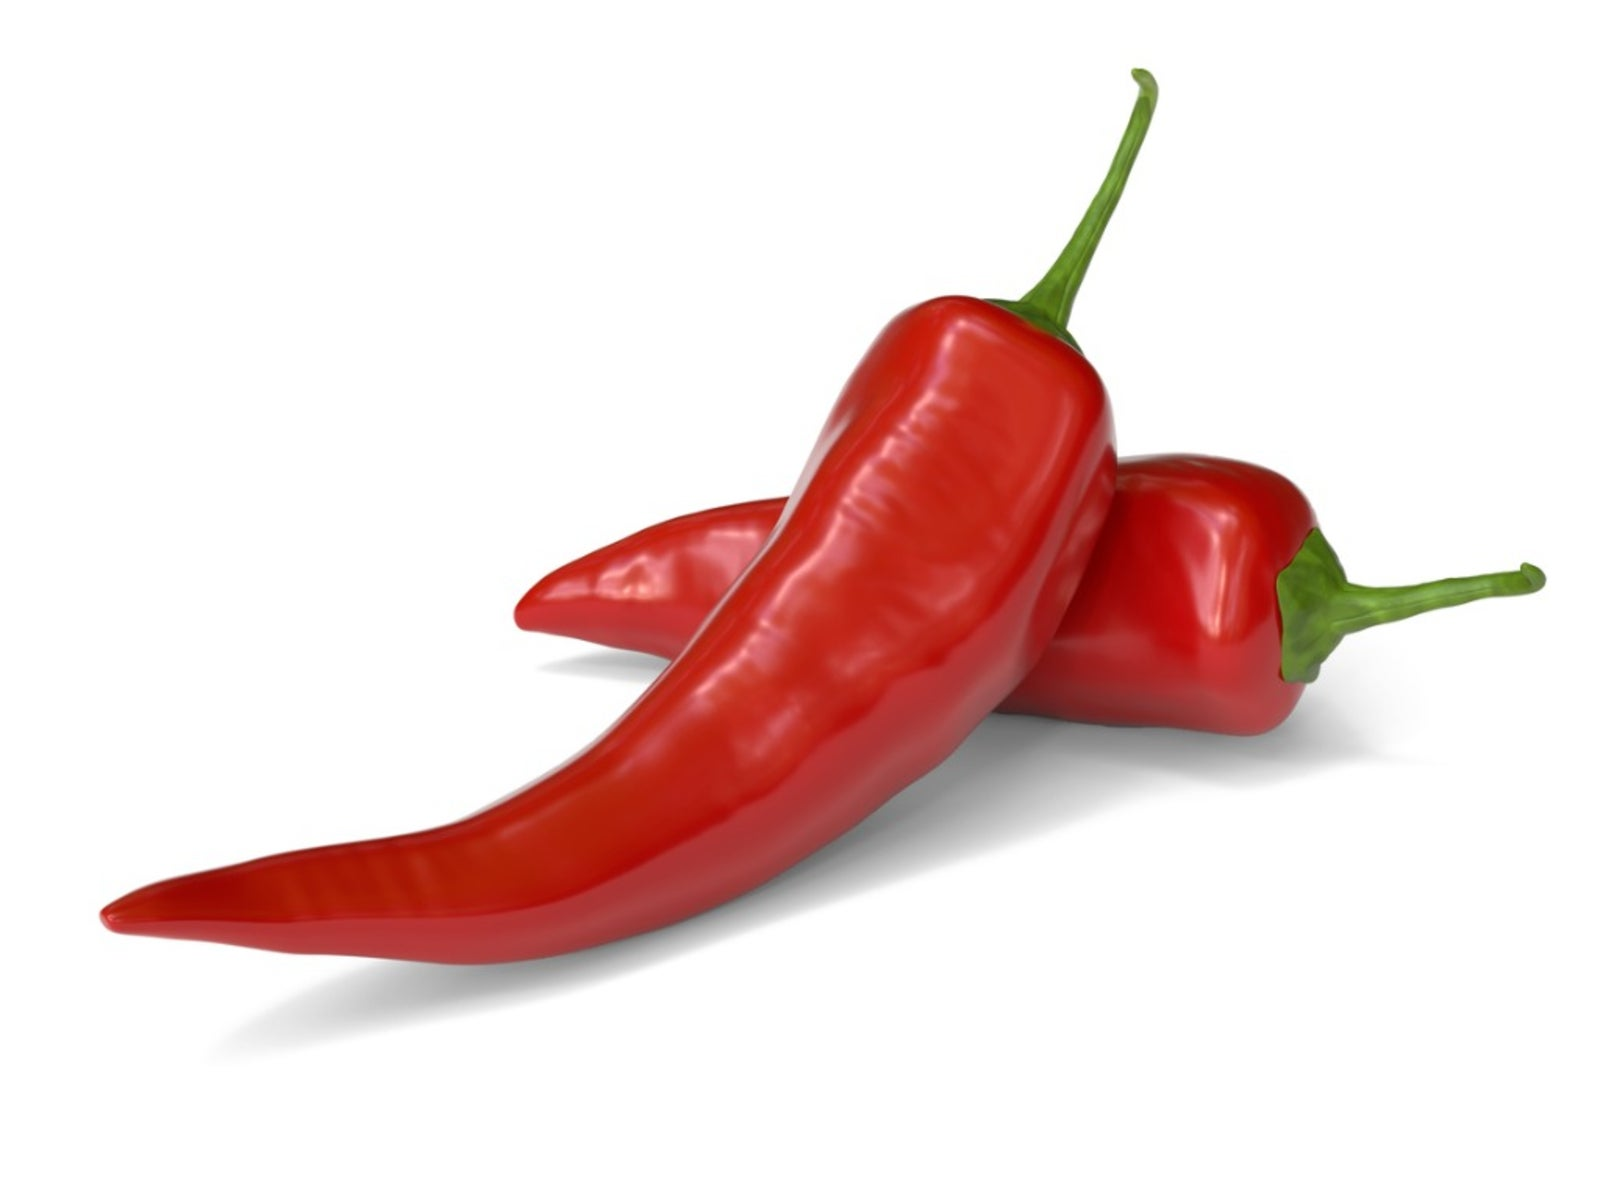Chili: (97, 77, 1260, 1029), (389, 301, 1567, 805)
